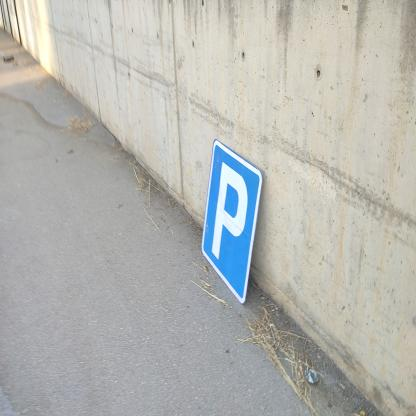Parking-Sign: (201, 139, 265, 309)
